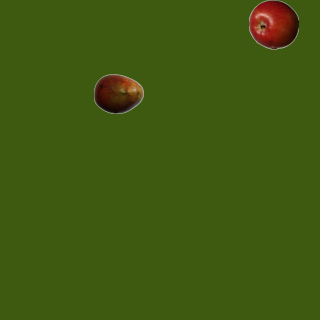Apple Braeburn: (248, 0, 298, 49)
Mango Red: (93, 68, 143, 118)
